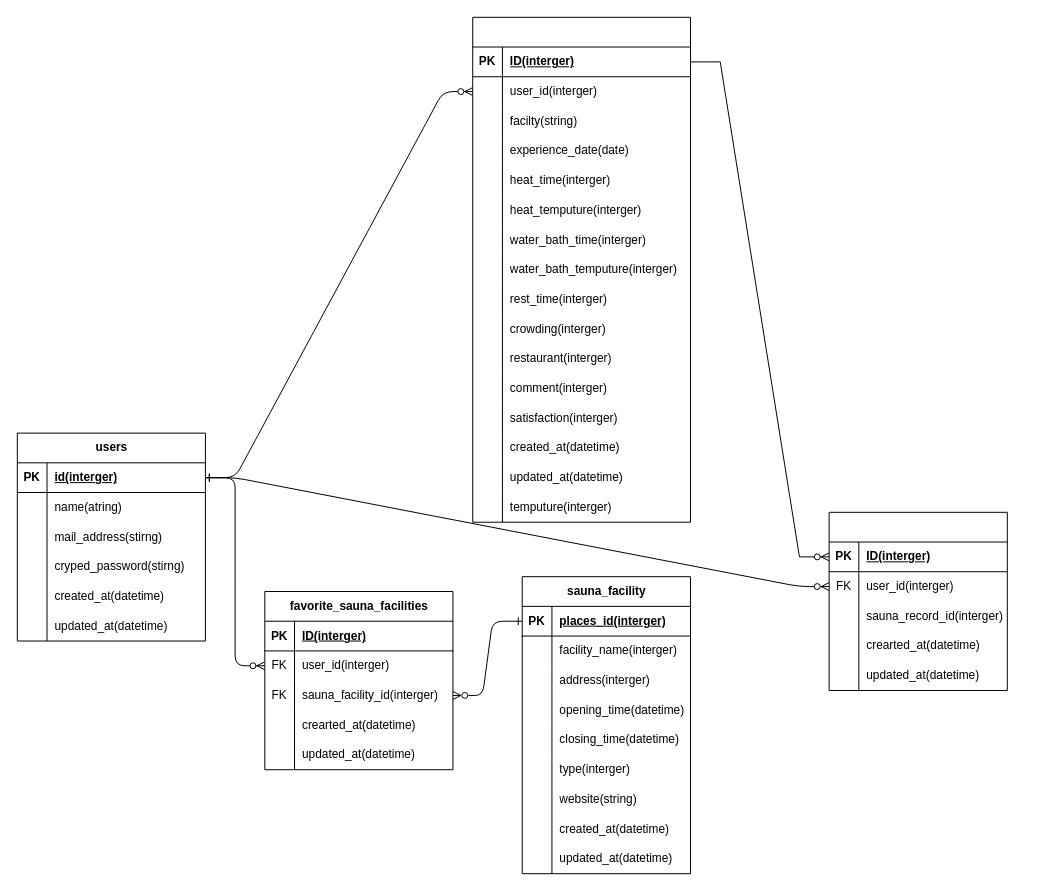
Some shapes in this 1044 by 891 pixel diagram are drawn without their labels. The shapes that lost their labels are listed below. From the top down, each one's box as (x1, y1, x2, y2) in pixels, then its label:
(472, 16, 691, 522): sauna_record
(828, 511, 1007, 691): favorite_posts
